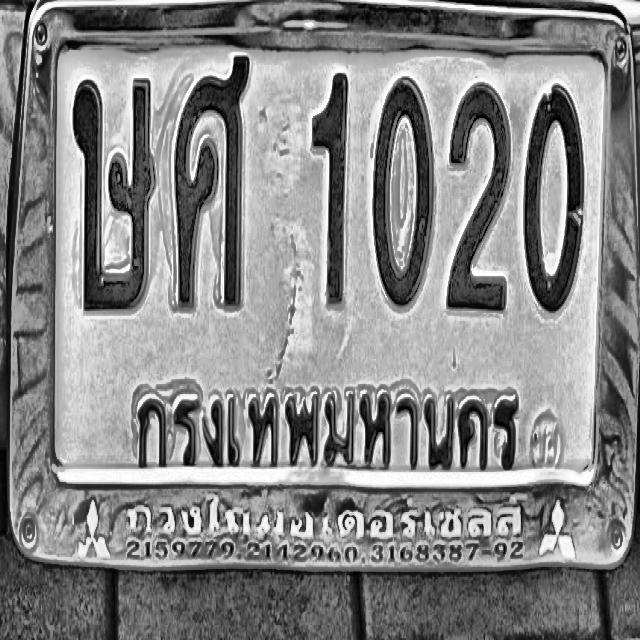license-plate: (8, 0, 640, 592)
